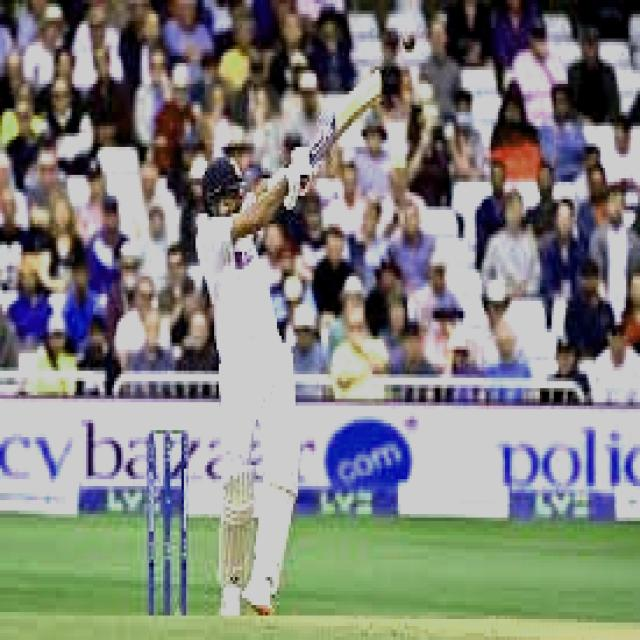toe: (370, 63, 391, 104)
